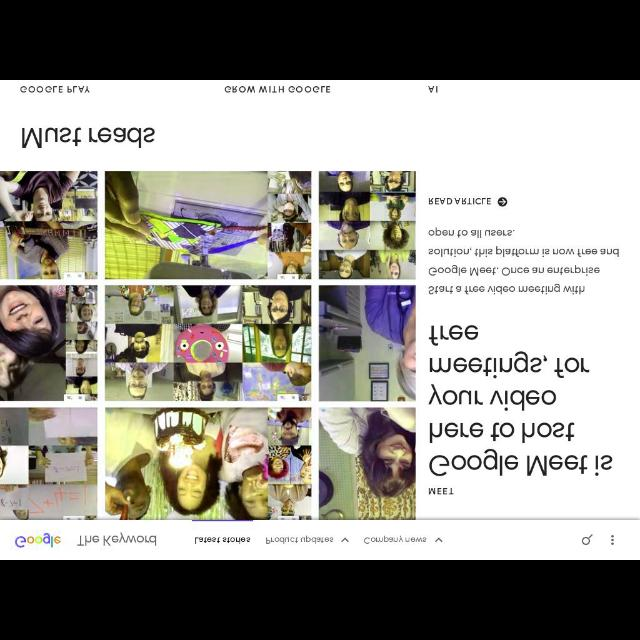icon: (581, 534, 593, 546), (498, 198, 507, 208), (610, 532, 616, 546), (340, 536, 350, 542), (434, 538, 444, 544)
image: (105, 286, 312, 402), (105, 408, 312, 518), (106, 170, 312, 280), (0, 285, 98, 401), (1, 406, 98, 520), (319, 286, 416, 400), (320, 407, 416, 521), (318, 172, 416, 278), (1, 172, 98, 278), (13, 532, 63, 548)
spinner: (363, 532, 445, 544), (266, 534, 350, 544)
text: (430, 324, 612, 476), (429, 227, 619, 295), (22, 125, 156, 148), (77, 530, 156, 546), (224, 85, 330, 93), (265, 534, 333, 544), (428, 195, 492, 205), (20, 85, 90, 94), (194, 535, 252, 545), (363, 536, 427, 544), (428, 485, 454, 497), (428, 85, 438, 94)
toolbar: (1, 520, 639, 560)
